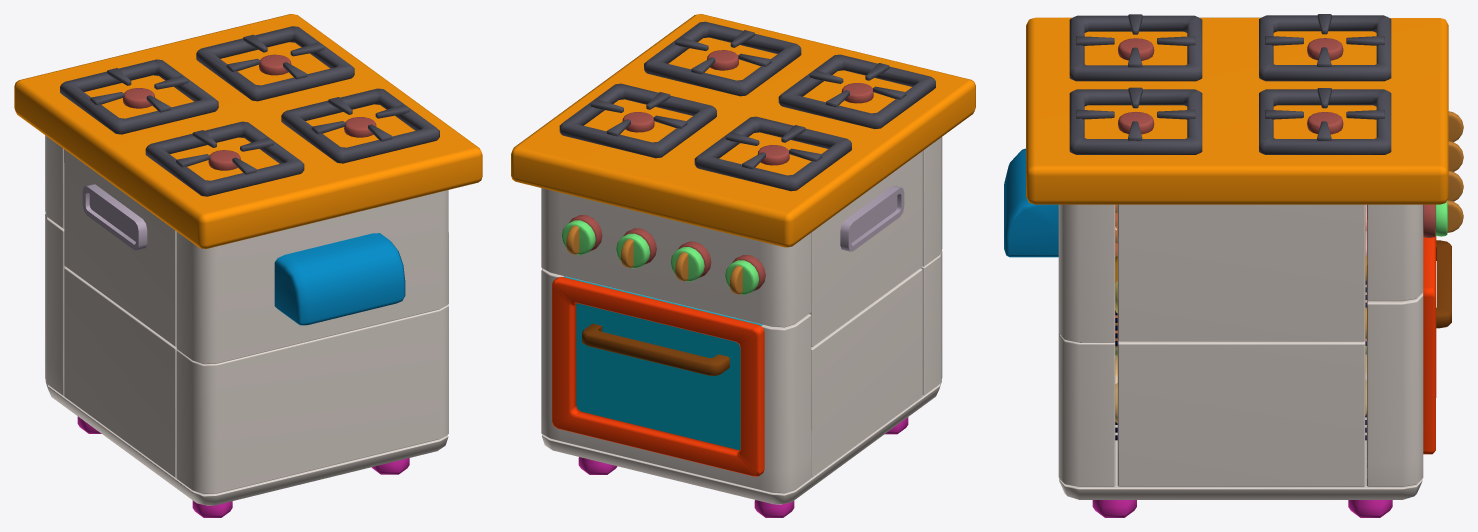
The picture shows the model from 3 angles, left to right: view 1: azimuth 30°, elevation 25°; view 2: azimuth 150°, elevation 25°; view 3: azimuth 270°, elevation 25°; orthographic projection. The views are drawn at different scales.
Parts seen in each view (by area): view 1: Cube_L2_10, Cube_L2_4, Cube_L2_5, Cube_L2, Cube_L2_1, Cube_L1_12, Cube_L1_6, Cube_L1_18, Cube_L1_19, Cube_L1_8, Cube_L2_3, Cube_L2_7 (+2 smaller); view 2: Cube_L2_10, Cube_L2_6, Cube_L2_2, Cube_L1_13, Cube_L2, Cube_L2_7, Cube_L2_1, Cube_L1_19, Cube_L1_6, Cube_L1_8, Cube_L1_18, Cube_L2_3 (+9 smaller); view 3: Cube_L2_10, Cube_L2_8, Cube_L2_9, Cube_L2_7, Cube_L2_4, Cube_L2_5, Cube_L1_8, Cube_L1_6, Cube_L1_19, Cube_L1_18, Cube_L2_6, Cube_L2_3 (+10 smaller).
Boxes of the visible parts, x1=… form: Cube_L2_10: x1=14, y1=14, x2=482, y2=248; Cube_L2_4: x1=176, y1=305, x2=448, y2=494; Cube_L2_5: x1=176, y1=190, x2=448, y2=364; Cube_L2: x1=64, y1=267, x2=177, y2=477; Cube_L2_1: x1=64, y1=149, x2=176, y2=346; Cube_L1_12: x1=274, y1=233, x2=405, y2=325; Cube_L1_6: x1=60, y1=59, x2=218, y2=134; Cube_L1_18: x1=196, y1=26, x2=354, y2=101; Cube_L1_19: x1=281, y1=88, x2=439, y2=163; Cube_L1_8: x1=145, y1=121, x2=304, y2=196; Cube_L2_3: x1=45, y1=381, x2=448, y2=505; Cube_L2_7: x1=45, y1=214, x2=65, y2=395; Cube_L2_10: x1=511, y1=14, x2=975, y2=247; Cube_L2_6: x1=541, y1=188, x2=811, y2=327; Cube_L2_2: x1=563, y1=276, x2=762, y2=450; Cube_L1_13: x1=552, y1=276, x2=764, y2=476; Cube_L2: x1=811, y1=268, x2=922, y2=477; Cube_L2_7: x1=541, y1=268, x2=811, y2=493; Cube_L2_1: x1=809, y1=151, x2=922, y2=347; Cube_L1_19: x1=644, y1=21, x2=801, y2=96; Cube_L1_6: x1=694, y1=116, x2=851, y2=191; Cube_L1_8: x1=778, y1=54, x2=935, y2=128; Cube_L1_18: x1=559, y1=83, x2=716, y2=158; Cube_L2_3: x1=542, y1=380, x2=941, y2=504; Cube_L2_10: x1=1026, y1=17, x2=1448, y2=204; Cube_L2_8: x1=1117, y1=340, x2=1365, y2=487; Cube_L2_9: x1=1117, y1=204, x2=1365, y2=341; Cube_L2_7: x1=1366, y1=292, x2=1423, y2=487; Cube_L2_4: x1=1058, y1=333, x2=1115, y2=487; Cube_L2_5: x1=1058, y1=204, x2=1115, y2=342; Cube_L1_8: x1=1069, y1=14, x2=1202, y2=81; Cube_L1_6: x1=1259, y1=14, x2=1391, y2=81; Cube_L1_19: x1=1069, y1=87, x2=1202, y2=154; Cube_L1_18: x1=1259, y1=88, x2=1391, y2=154; Cube_L2_6: x1=1366, y1=204, x2=1423, y2=301; Cube_L2_3: x1=1059, y1=417, x2=1422, y2=499.
Size of the model in its own units: 4.01 by 4.73 by 5.06.
